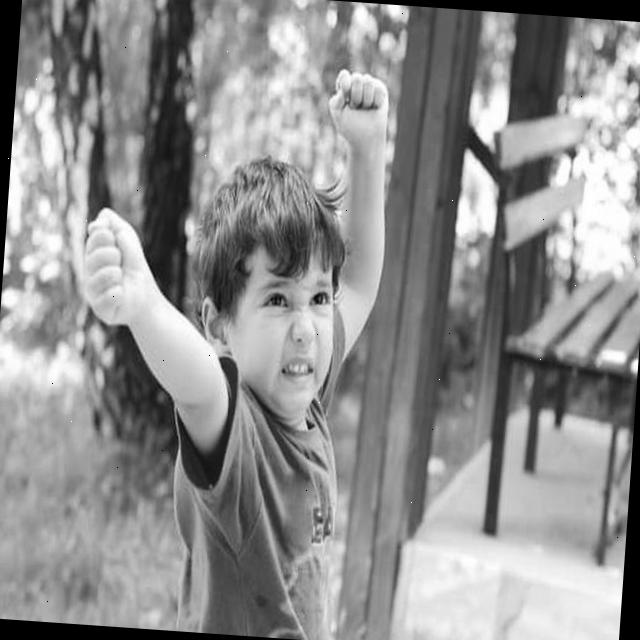Angry: (220, 234, 340, 416)
